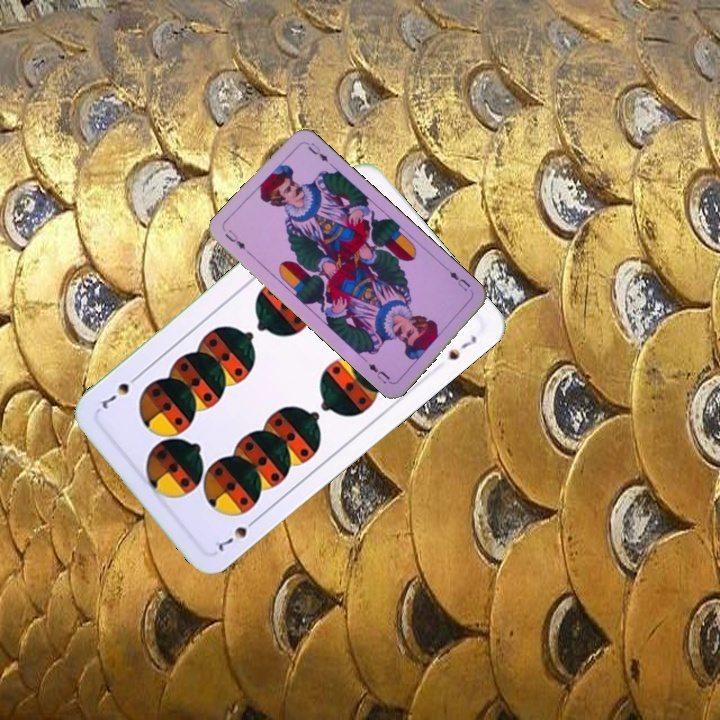EU: (442, 265, 473, 294), (221, 225, 248, 252)
S7: (210, 513, 261, 555)
